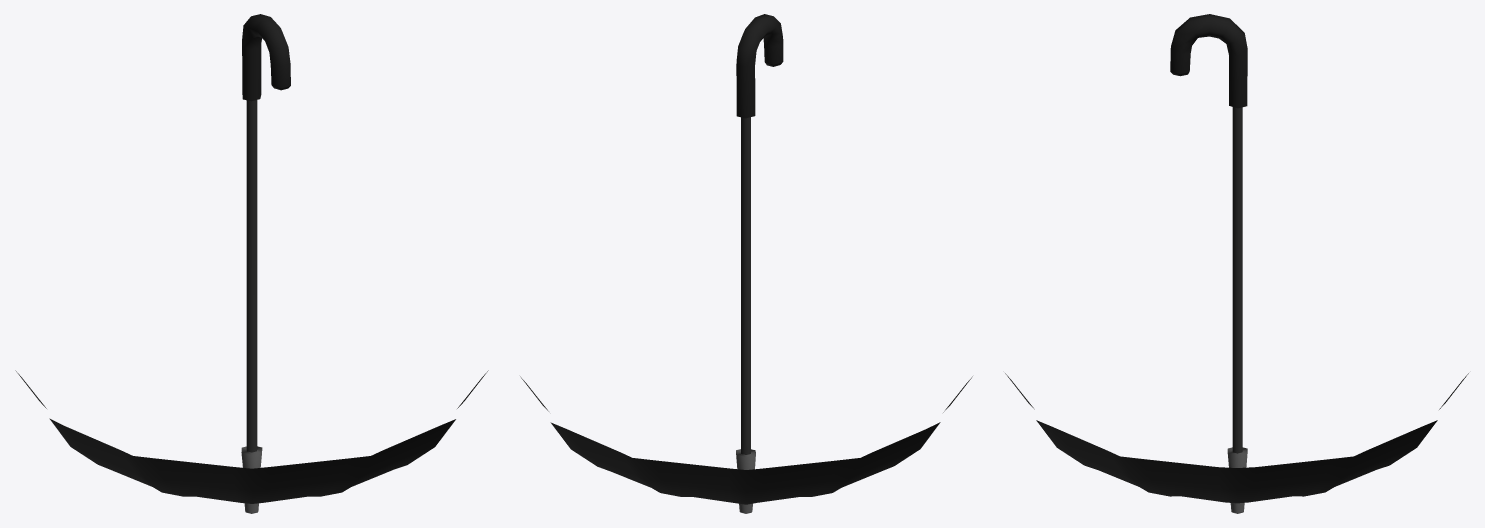
The model's file is UmbrellaBat0.glb.
3 views of the same model, side by side, from view 1: azimuth 30°, elevation 25°; view 2: azimuth 150°, elevation 25°; view 3: azimuth 270°, elevation 25° (orthographic). The views are drawn at different scales.
Parts seen in each view (by area): view 1: Pole__mUmbrella; view 2: Pole__mUmbrella; view 3: Pole__mUmbrella.
Boxes of the visible parts, x1=… form: Pole__mUmbrella: x1=15, y1=14, x2=488, y2=513; Pole__mUmbrella: x1=520, y1=14, x2=972, y2=513; Pole__mUmbrella: x1=1005, y1=14, x2=1468, y2=513.
Size of the model in its own units: 14.29 by 16.94 by 14.51.
Materials: 1 (1 with a texture image).
